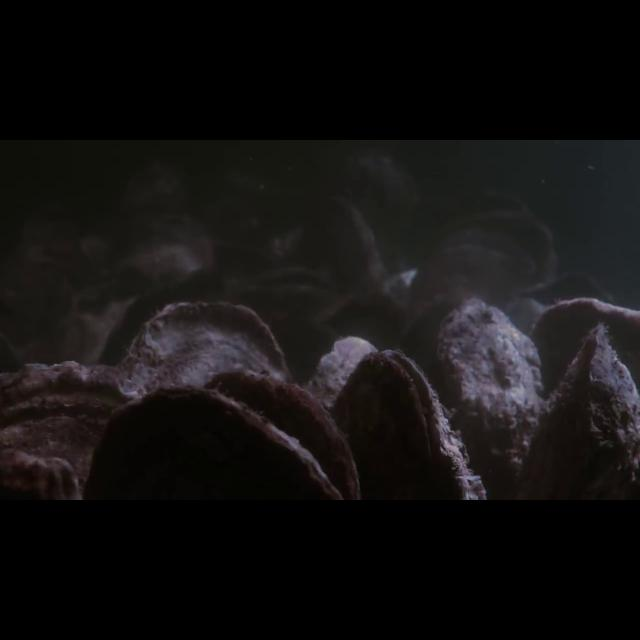Oyster-Closed: (79, 383, 348, 500), (436, 300, 545, 498), (517, 320, 639, 493), (205, 366, 364, 498), (7, 358, 146, 483), (120, 299, 293, 387), (529, 296, 638, 389), (307, 334, 381, 405)
Oyster-Open: (328, 348, 488, 498)
